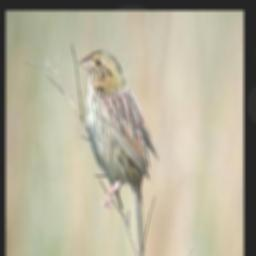Sparrow: (77, 48, 158, 256)
